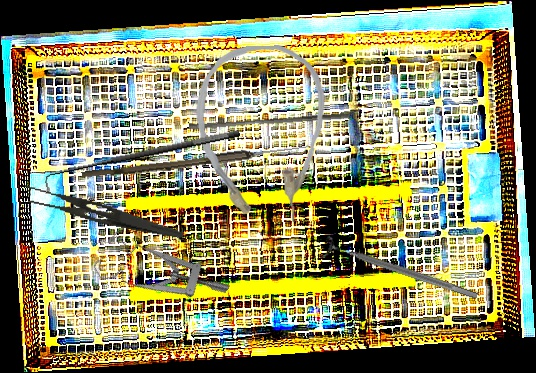Cannula: (192, 43, 331, 226)
Dressing Forceps: (21, 182, 187, 240)
Fixation Ring: (319, 233, 482, 309)
Hook Surgical: (41, 127, 244, 194)
Pusher: (188, 106, 350, 136)
Speculum: (86, 208, 232, 346)
Surgical Spoon: (81, 140, 310, 183)
